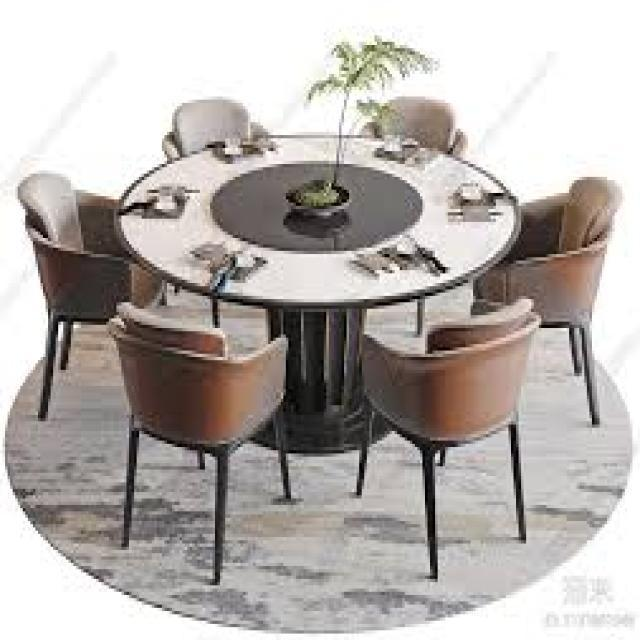table: (8, 57, 630, 585)
